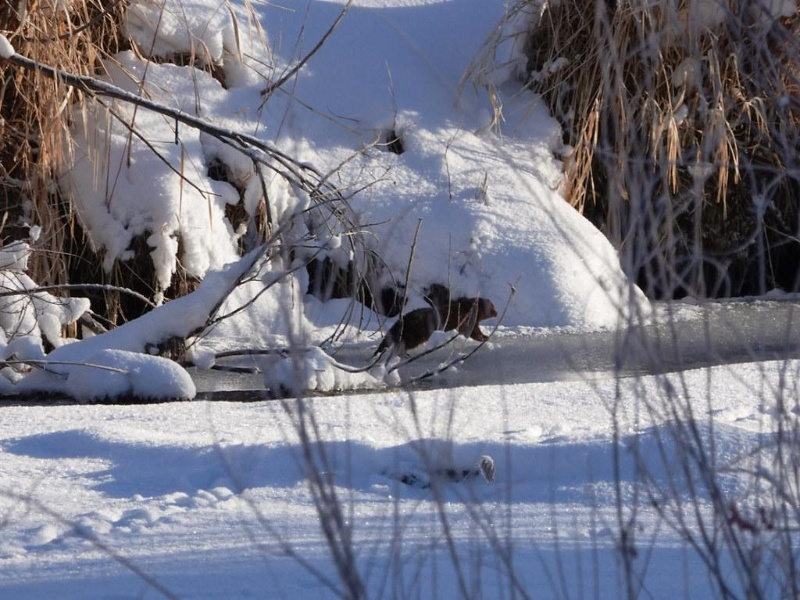minkish: (371, 295, 501, 363)
